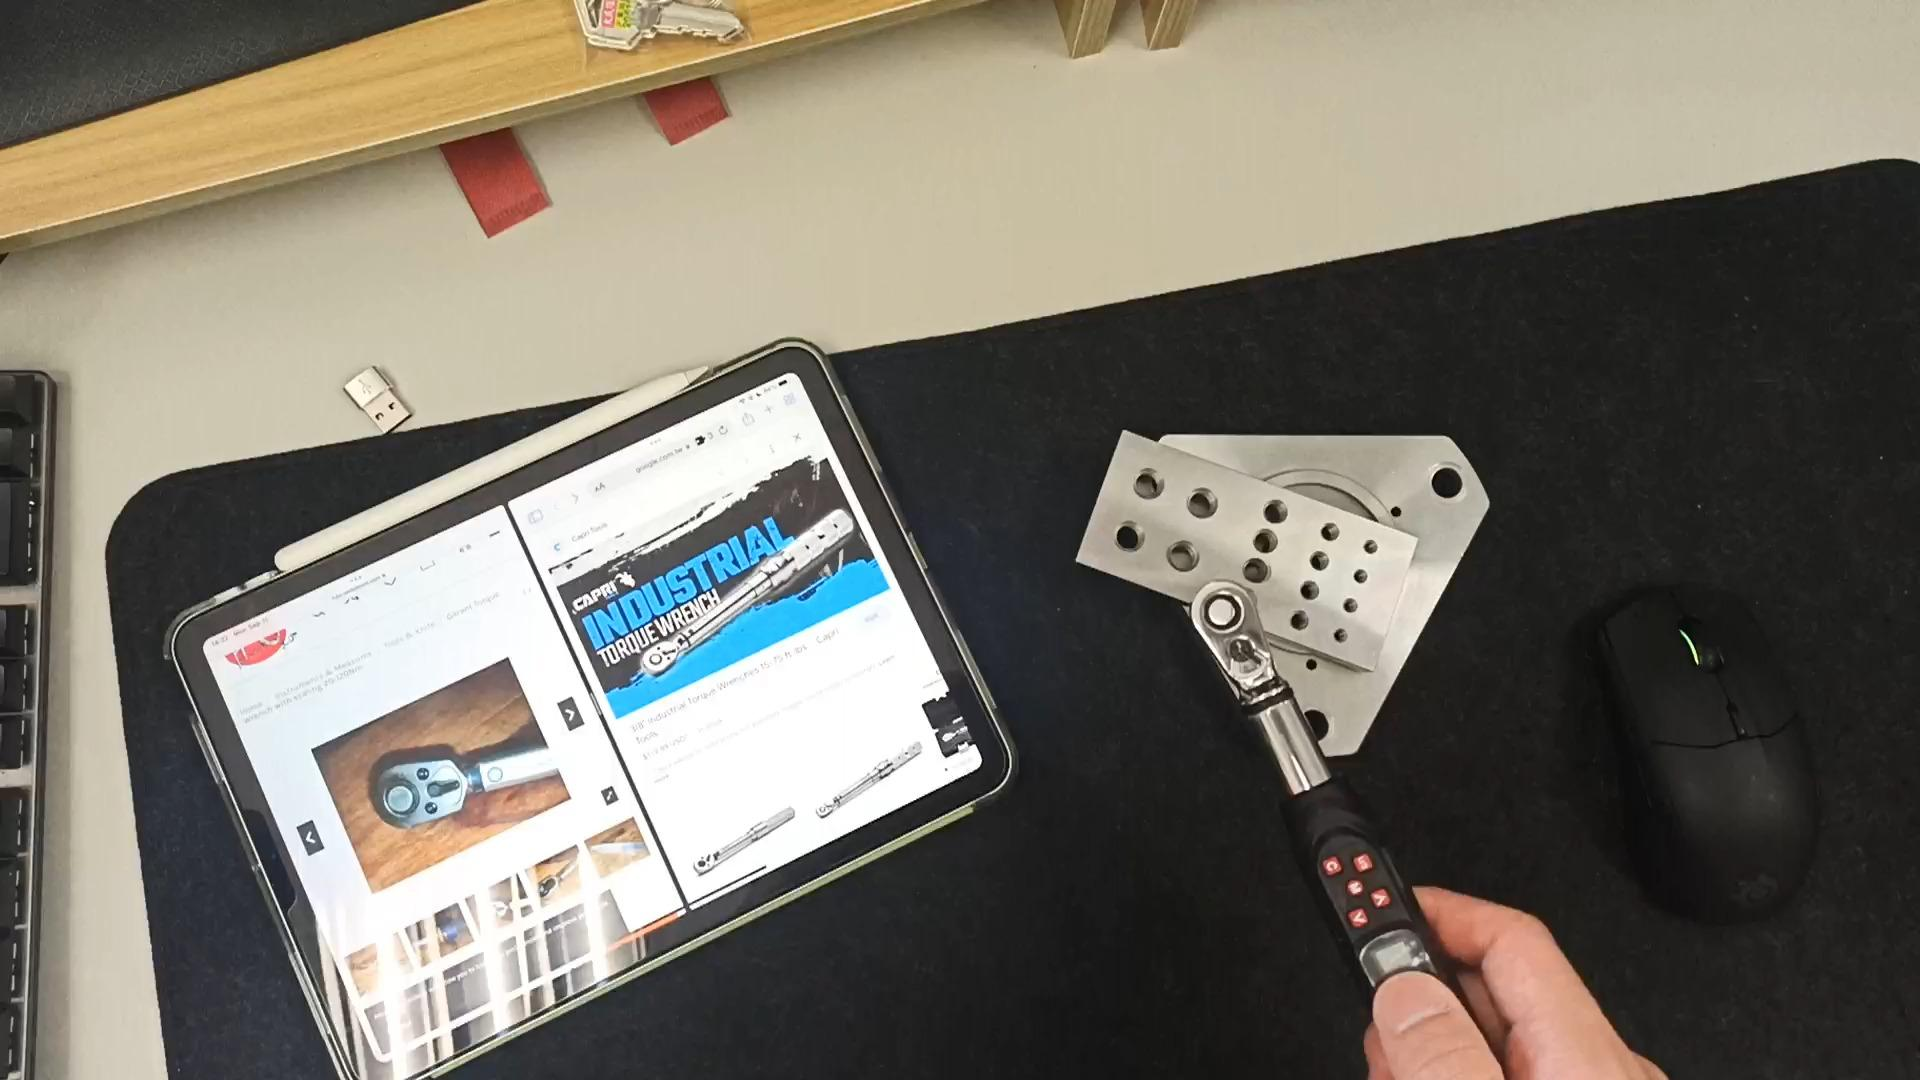Tool: (1192, 582, 1278, 700), (370, 748, 472, 830), (639, 638, 682, 676)
hole: (1420, 463, 1481, 510), (1105, 518, 1159, 555), (1300, 699, 1339, 749), (1125, 463, 1175, 501), (1179, 486, 1231, 521), (1163, 538, 1212, 572), (1254, 496, 1299, 524), (1243, 529, 1288, 557), (1233, 559, 1276, 587), (1285, 608, 1323, 633), (1316, 523, 1353, 547), (1296, 582, 1331, 604), (1304, 550, 1340, 571), (1354, 540, 1389, 560), (1335, 596, 1368, 615), (1327, 625, 1359, 643), (1344, 569, 1375, 587)
